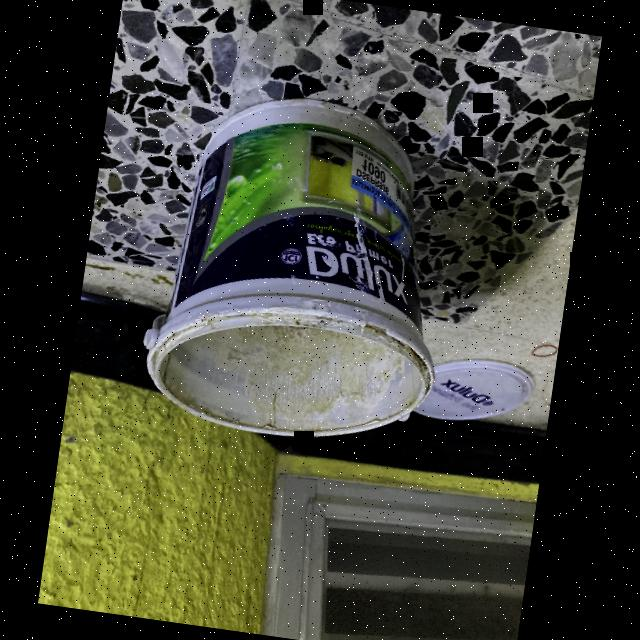paint_bucket: (138, 84, 468, 458)
